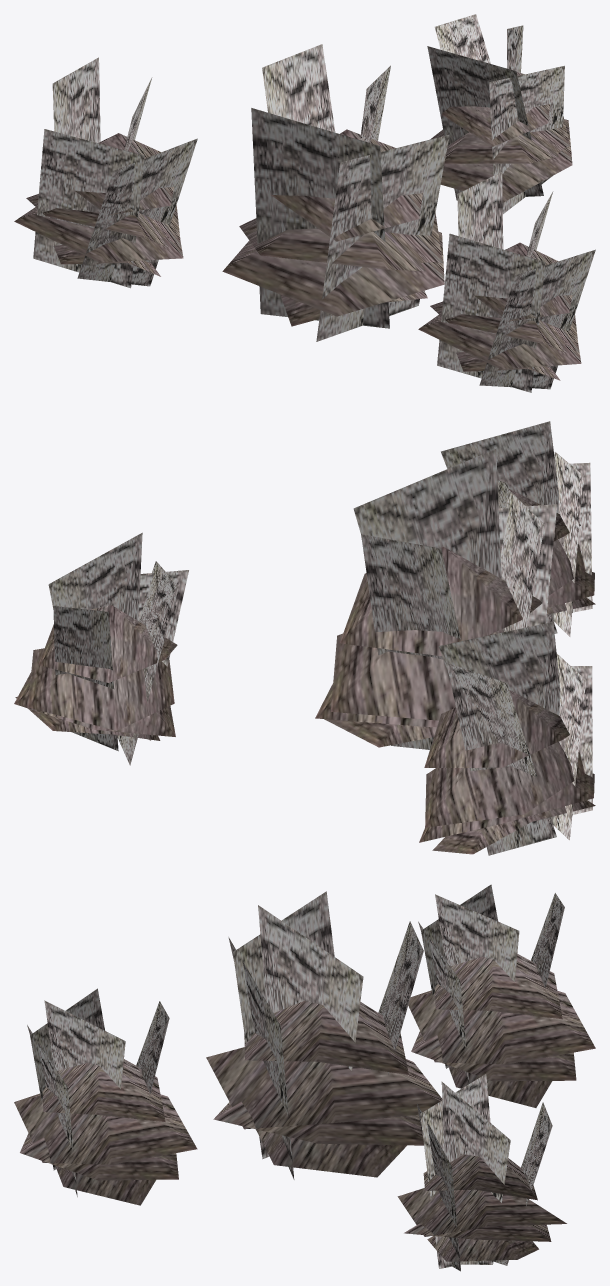
The model's file is Grass03.obj.
The picture shows the model from 3 angles, top to bottom: view 1: azimuth 30°, elevation 25°; view 2: azimuth 150°, elevation 25°; view 3: azimuth 270°, elevation 25°; orthographic projection. The views are drawn at different scales.
Visible parts, largest first — view 1: Mesh_1, Mesh_0; view 2: Mesh_1, Mesh_0; view 3: Mesh_0, Mesh_1.
Part boxes in pixels (x1,y1,x2,y2): Mesh_1: (33, 14, 595, 392); Mesh_0: (14, 72, 581, 380); Mesh_1: (48, 421, 592, 855); Mesh_0: (14, 489, 595, 854); Mesh_0: (14, 954, 595, 1261); Mesh_1: (27, 884, 564, 1271).
Size of the model in its own units: 3.04 by 1.39 by 2.92.
2 materials, 2 textured.
